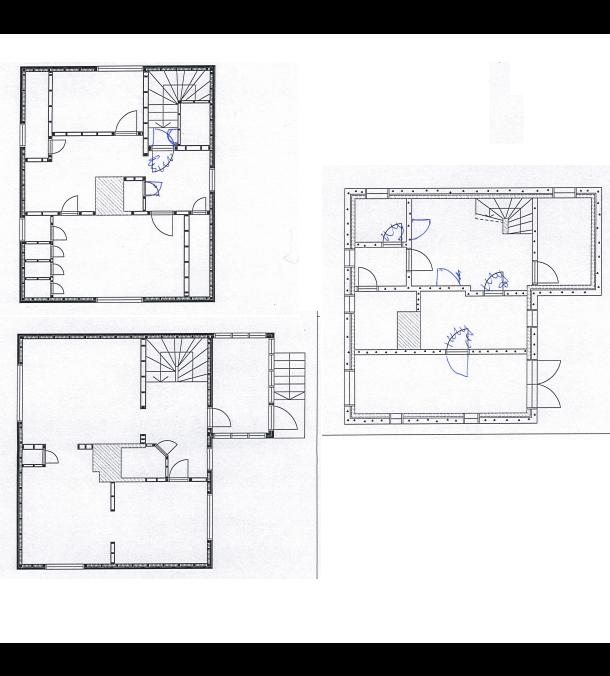door: (526, 353, 564, 384), (528, 256, 563, 288), (266, 401, 304, 430), (523, 384, 562, 410), (480, 266, 509, 300), (446, 322, 475, 354), (405, 244, 434, 273), (148, 208, 175, 238), (444, 348, 472, 376), (166, 454, 192, 484), (404, 215, 434, 241), (380, 218, 406, 248), (113, 109, 138, 138), (150, 126, 176, 152), (354, 265, 379, 292), (436, 266, 460, 292), (154, 437, 180, 460), (58, 194, 82, 218), (190, 195, 212, 218), (140, 176, 164, 197), (45, 136, 68, 156), (46, 223, 68, 242), (41, 448, 62, 464), (47, 245, 67, 260), (48, 280, 66, 296), (48, 261, 66, 276)
window: (200, 486, 219, 548), (12, 358, 28, 430), (88, 291, 150, 306), (38, 559, 94, 575), (341, 364, 359, 408), (93, 62, 146, 74), (362, 183, 394, 202), (546, 182, 580, 198), (524, 302, 540, 334), (342, 289, 358, 320), (459, 410, 484, 428), (206, 161, 218, 197), (203, 444, 216, 476), (16, 212, 27, 247), (18, 115, 28, 152), (384, 412, 408, 426), (265, 365, 278, 389), (344, 244, 355, 271), (248, 428, 272, 440), (208, 430, 232, 442), (265, 384, 278, 405), (248, 330, 270, 341), (229, 428, 249, 440), (230, 330, 251, 341), (266, 333, 277, 353), (210, 330, 234, 338), (266, 351, 275, 371)
